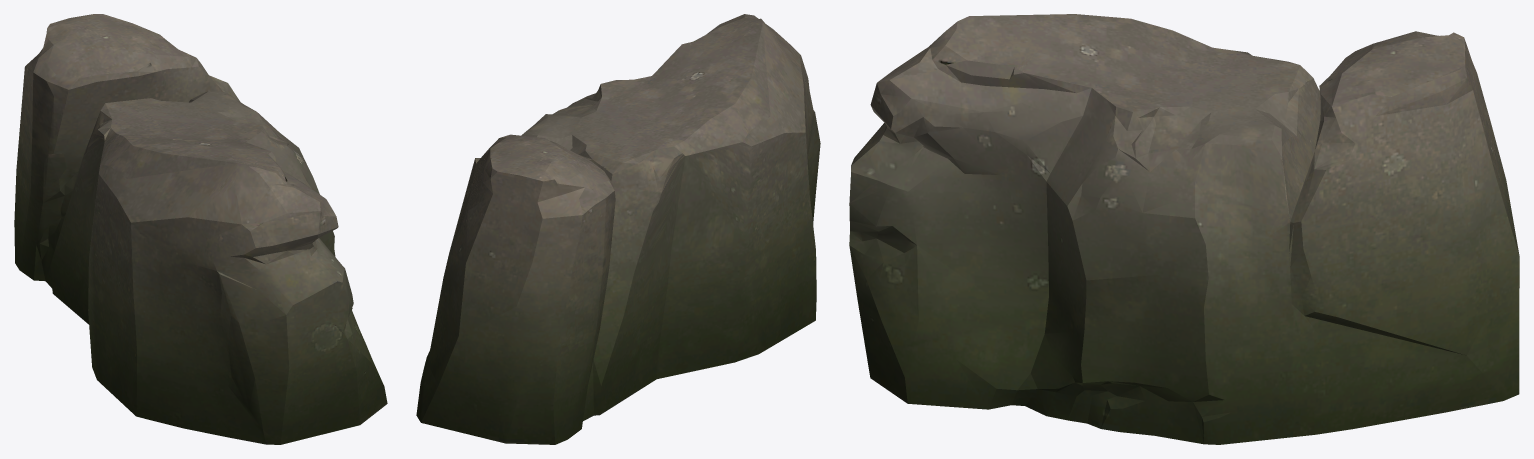
The model's file is riveredge_rock010a.fbx.
The picture shows the model from 3 angles, left to right: view 1: azimuth 30°, elevation 25°; view 2: azimuth 150°, elevation 25°; view 3: azimuth 270°, elevation 25°; orthographic projection. The views are drawn at different scales.
Parts seen in each view (by area): view 1: riveredge_rock010a; view 2: riveredge_rock010a; view 3: riveredge_rock010a.
Part boxes in pixels (<box>): riveredge_rock010a: <box>14,14,387,444</box>; riveredge_rock010a: <box>416,14,820,444</box>; riveredge_rock010a: <box>849,14,1519,444</box>.
Size of the model in its own units: 347 by 311 by 604.
